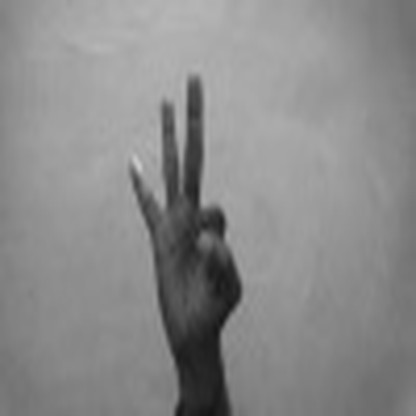f: (117, 70, 249, 353)
